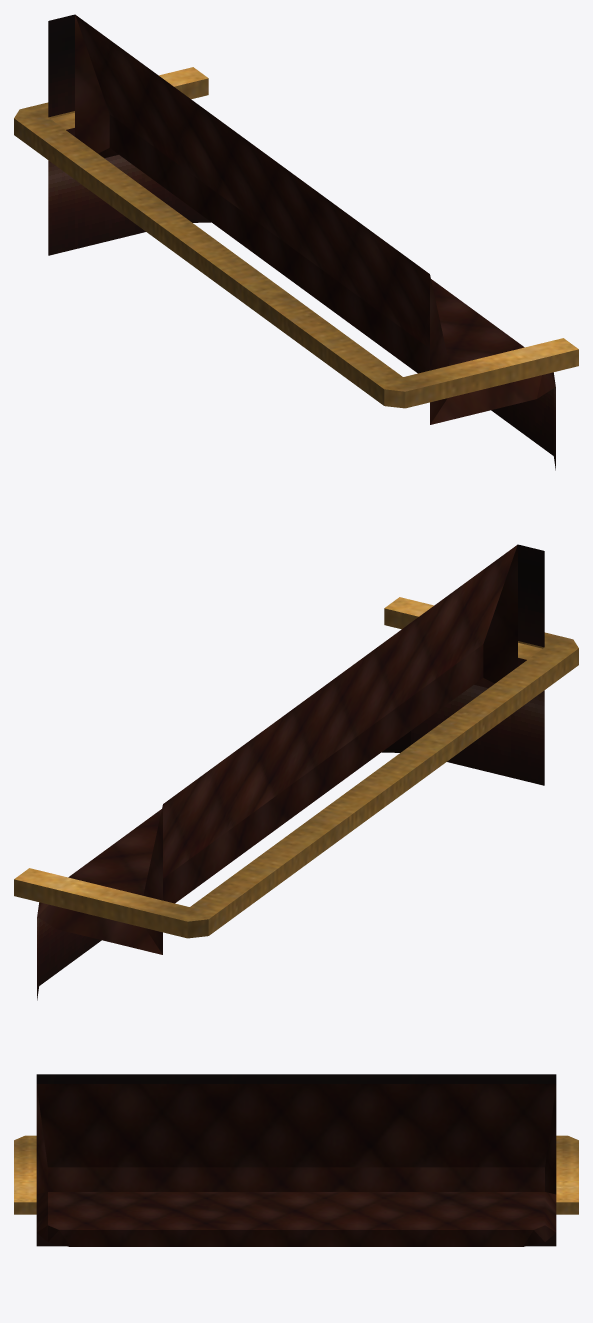
Rendered from chair1.obj.
The picture shows the model from 3 angles, top to bottom: view 1: azimuth 30°, elevation 25°; view 2: azimuth 150°, elevation 25°; view 3: azimuth 270°, elevation 25°; orthographic projection. The views are drawn at different scales.
Visible parts, largest first — view 1: SELECT; view 2: SELECT; view 3: SELECT.
Boxes of the visible parts, bbox=[...] form: SELECT: bbox=[14, 14, 578, 470]; SELECT: bbox=[14, 544, 578, 1000]; SELECT: bbox=[14, 1074, 578, 1246].
Size of the model in its own units: 60 by 67.2 by 200.
